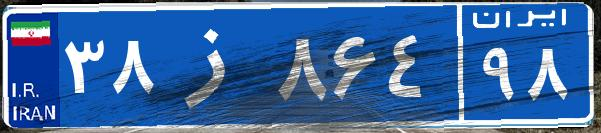3: (57, 26, 110, 107)
4: (385, 28, 445, 110)
6: (330, 28, 385, 110)
8: (273, 28, 330, 110), (110, 28, 158, 105), (525, 38, 570, 115)
9: (475, 38, 525, 113)
ز: (158, 15, 273, 115)
